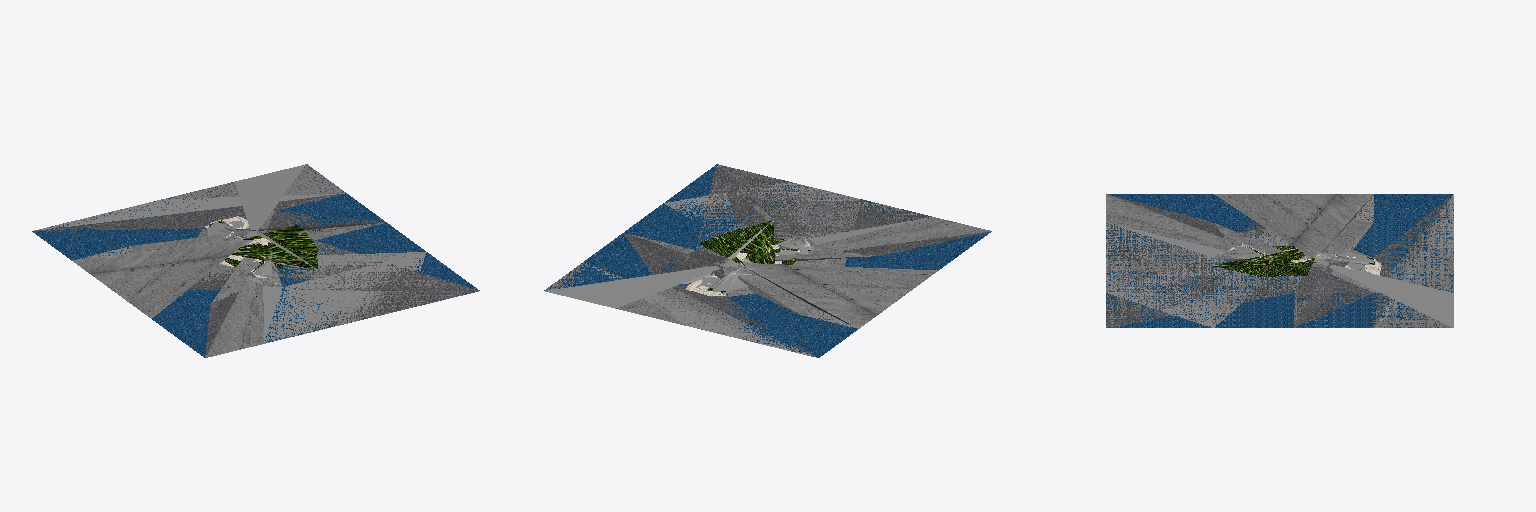
3 renders of one model, left to right at view 1: azimuth 30°, elevation 25°; view 2: azimuth 150°, elevation 25°; view 3: azimuth 270°, elevation 25°, orthographic.
Visible parts, largest first — view 1: Plane01, Plane02; view 2: Plane01, Plane02; view 3: Plane01, Plane02.
Boxes of the visible parts, x1=… form: Plane01: x1=34, y1=164, x2=478, y2=357; Plane02: x1=32, y1=164, x2=479, y2=357; Plane01: x1=545, y1=164, x2=990, y2=357; Plane02: x1=544, y1=164, x2=991, y2=357; Plane01: x1=1106, y1=194, x2=1453, y2=327; Plane02: x1=1106, y1=194, x2=1453, y2=327.
Bounding box in the file's own units: 1308 × 72.01 × 1428.
Materials: 7 (5 with a texture image).